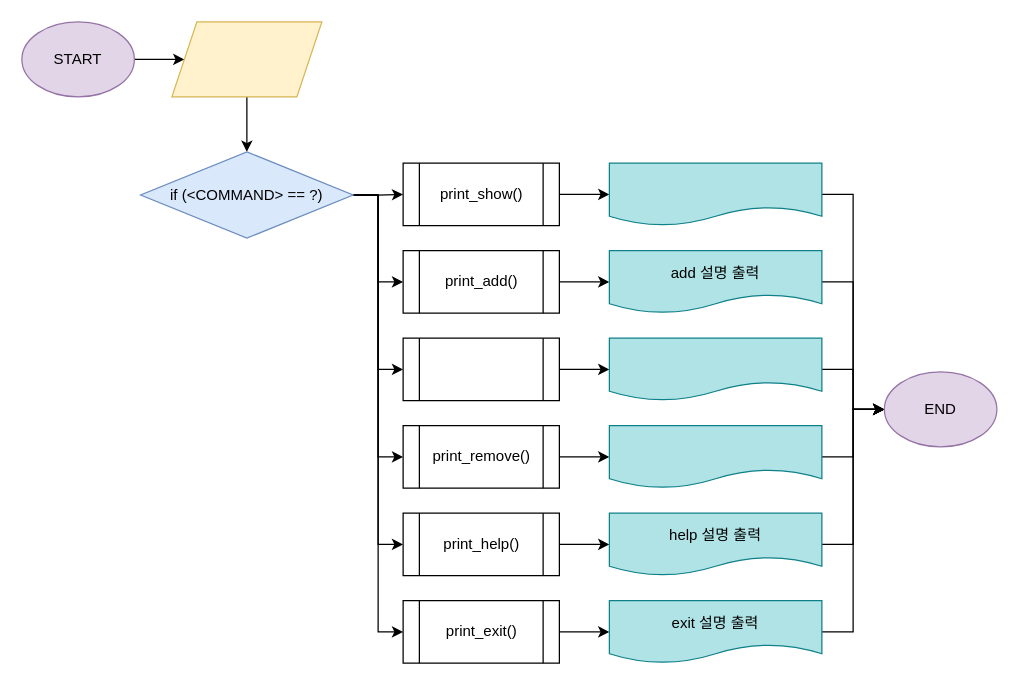
Some shapes in this 1019 by 685 pixel diagram are drawn without their labels. Each missing label, with the centre of its shape:
"int argc char *argv" goes at point 246,59.
"modify 설명 출력" goes at point 715,369.
"print_modify()" goes at point 480,369.
"remove 설명 출력" goes at point 715,456.
"show 설명 출력" goes at point 715,194.
